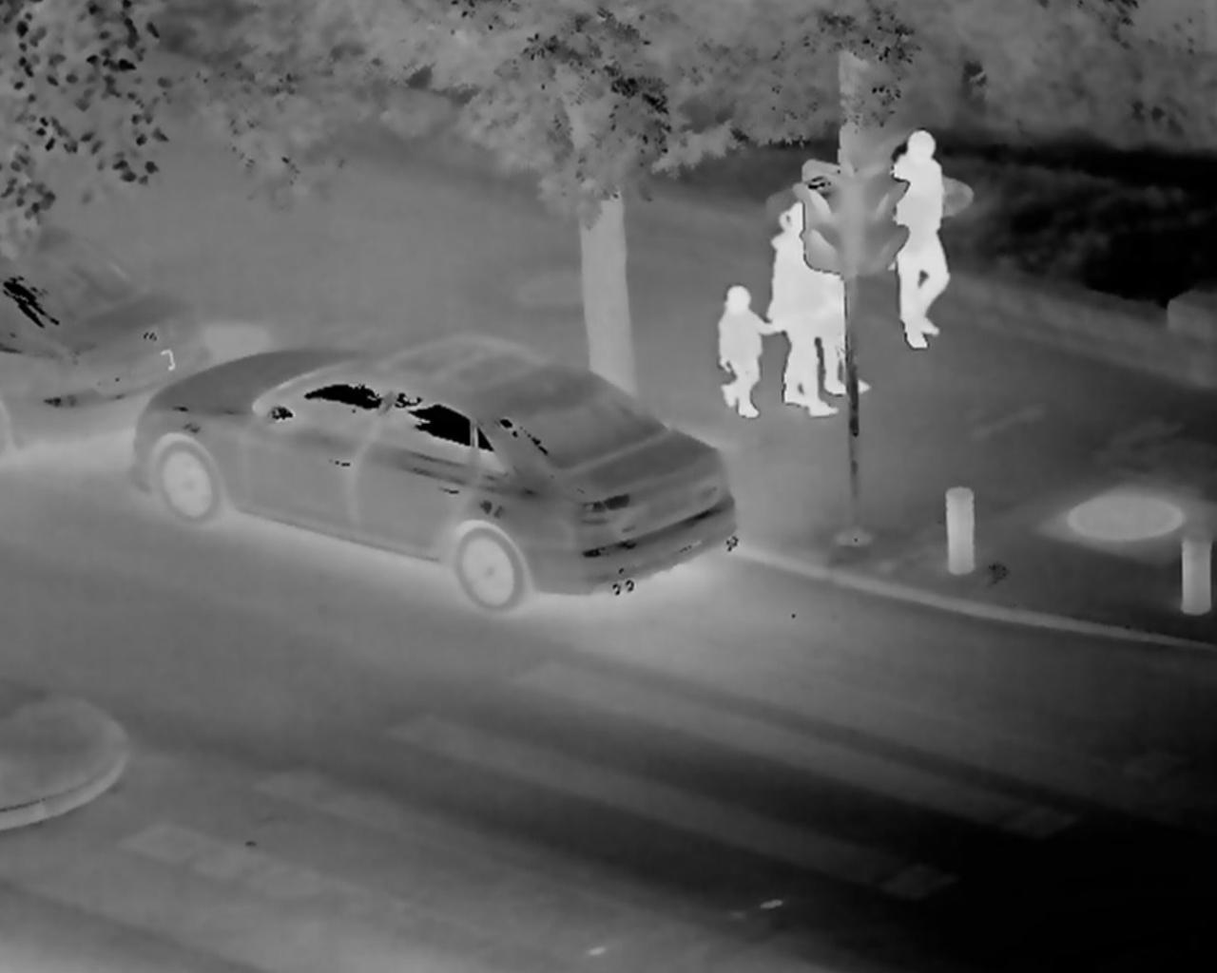person: (765, 202, 834, 418), (894, 127, 948, 355), (718, 277, 775, 423), (821, 276, 870, 393)
